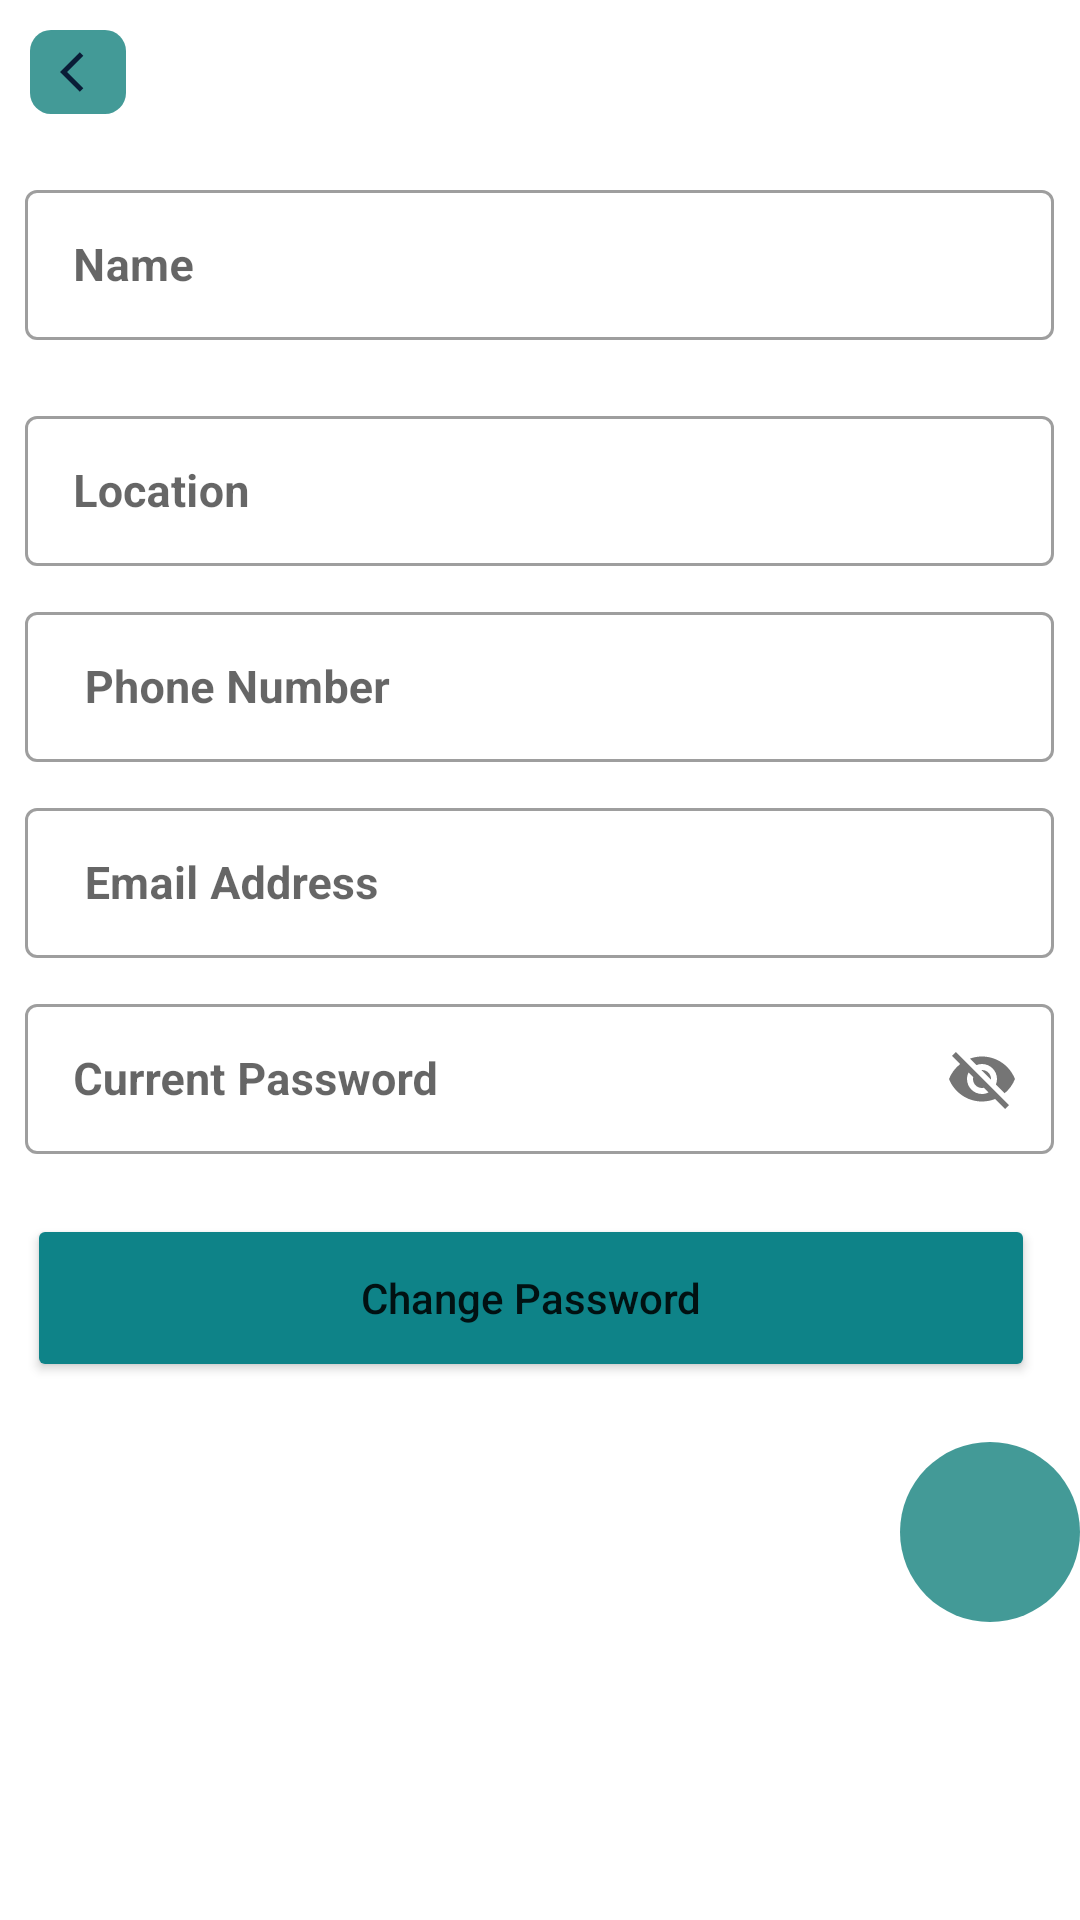

Icon click points for this 1080x1920 phone screenshot, format (x=x, y=y):
arrow back: (x=71, y=72)
